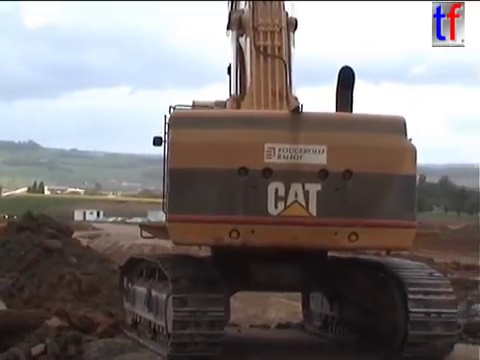excavator: (114, 1, 466, 360)
truck: (1, 210, 146, 360)
